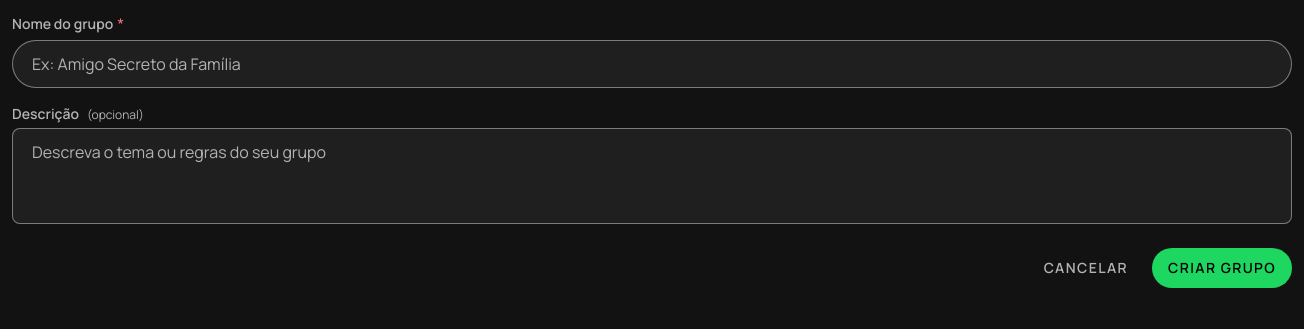
CreateGroupForm › displays inline error when name is empty on submit
Click the button "Criar grupo" at [1222, 268], box [1152,248,1292,288]
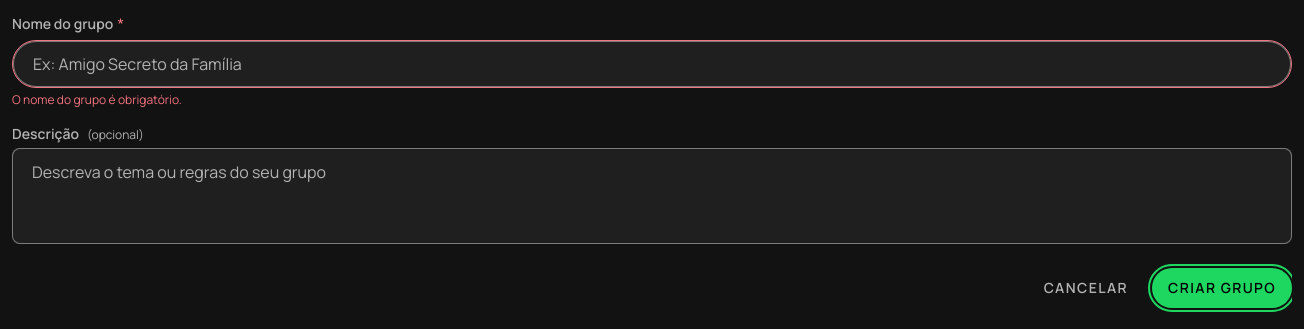
Check: the text "O nome do grupo é obrigatório." is shown, box [12,91,182,108]
